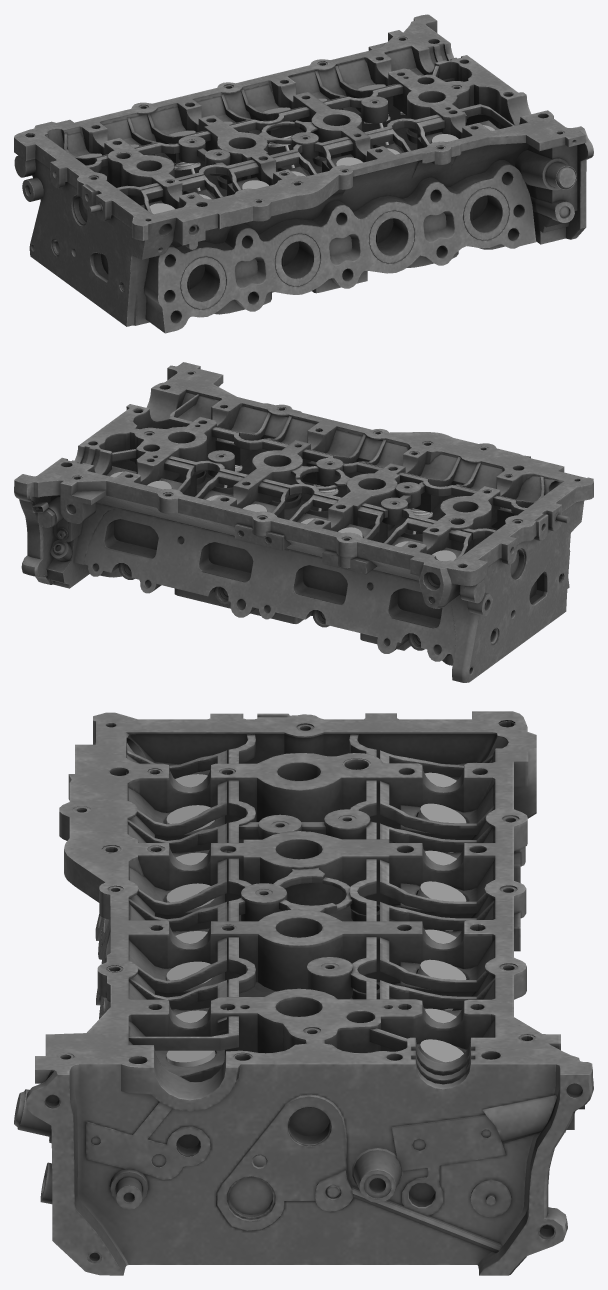
File: gol_block.fbx
3 views of the same model, one above another, from view 1: azimuth 30°, elevation 25°; view 2: azimuth 150°, elevation 25°; view 3: azimuth 270°, elevation 25° (orthographic). The views are drawn at different scales.
Visible parts, largest first — view 1: golov_block; view 2: golov_block; view 3: golov_block, tolkat_two, tolkat_two4, tolkat_two2.
Boxes of the visible parts, x1,y1,x2,y2 form: golov_block: [14, 14, 593, 333]; golov_block: [14, 362, 593, 682]; golov_block: [14, 711, 593, 1275]; tolkat_two: [419, 1039, 463, 1062]; tolkat_two4: [417, 881, 466, 931]; tolkat_two2: [417, 959, 466, 1010].
Size of the model in its own units: 45.86 by 11.44 by 29.98.
2 materials, 1 textured.
